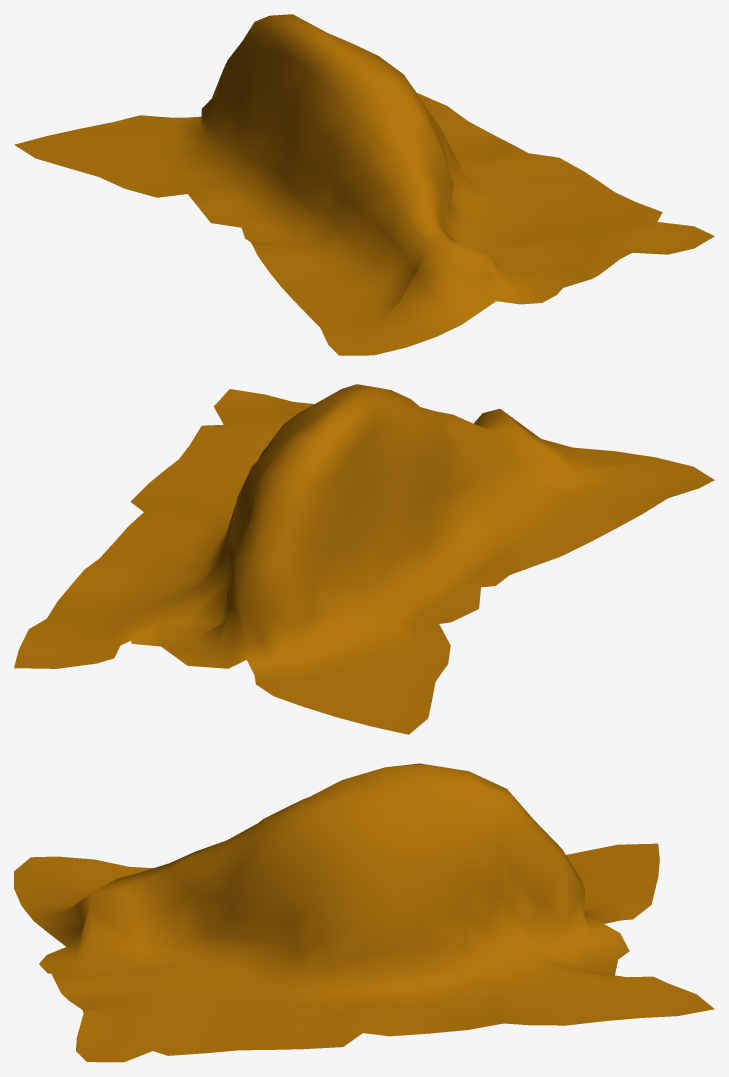
File: SM_POS_Man_Side.FBX
3 renders of one model, top to bottom at view 1: azimuth 30°, elevation 25°; view 2: azimuth 150°, elevation 25°; view 3: azimuth 270°, elevation 25°, orthographic. The views are drawn at different scales.
Parts seen in each view (by area): view 1: POS_Man_Side; view 2: POS_Man_Side; view 3: POS_Man_Side.
Boxes of the visible parts, x1=… form: POS_Man_Side: x1=14, y1=14, x2=714, y2=355; POS_Man_Side: x1=14, y1=384, x2=714, y2=734; POS_Man_Side: x1=14, y1=763, x2=714, y2=1062.
Bounding box in the file's own units: 228 × 306 × 81.62.
